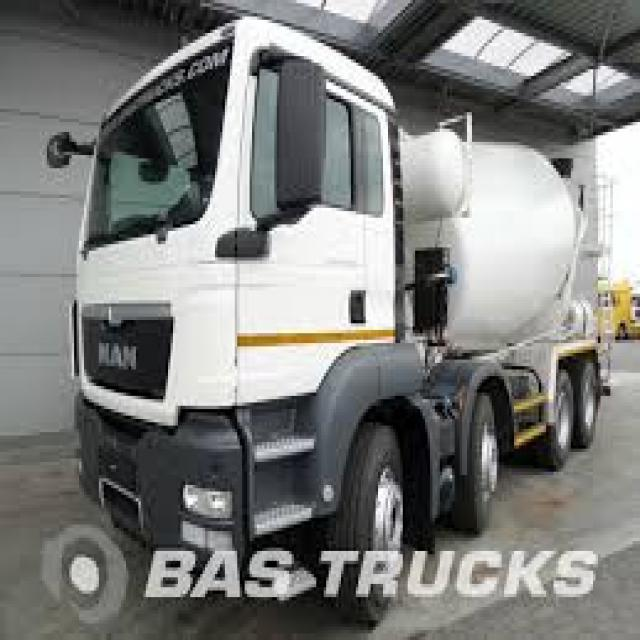Mixer Truck: (44, 9, 617, 623)
